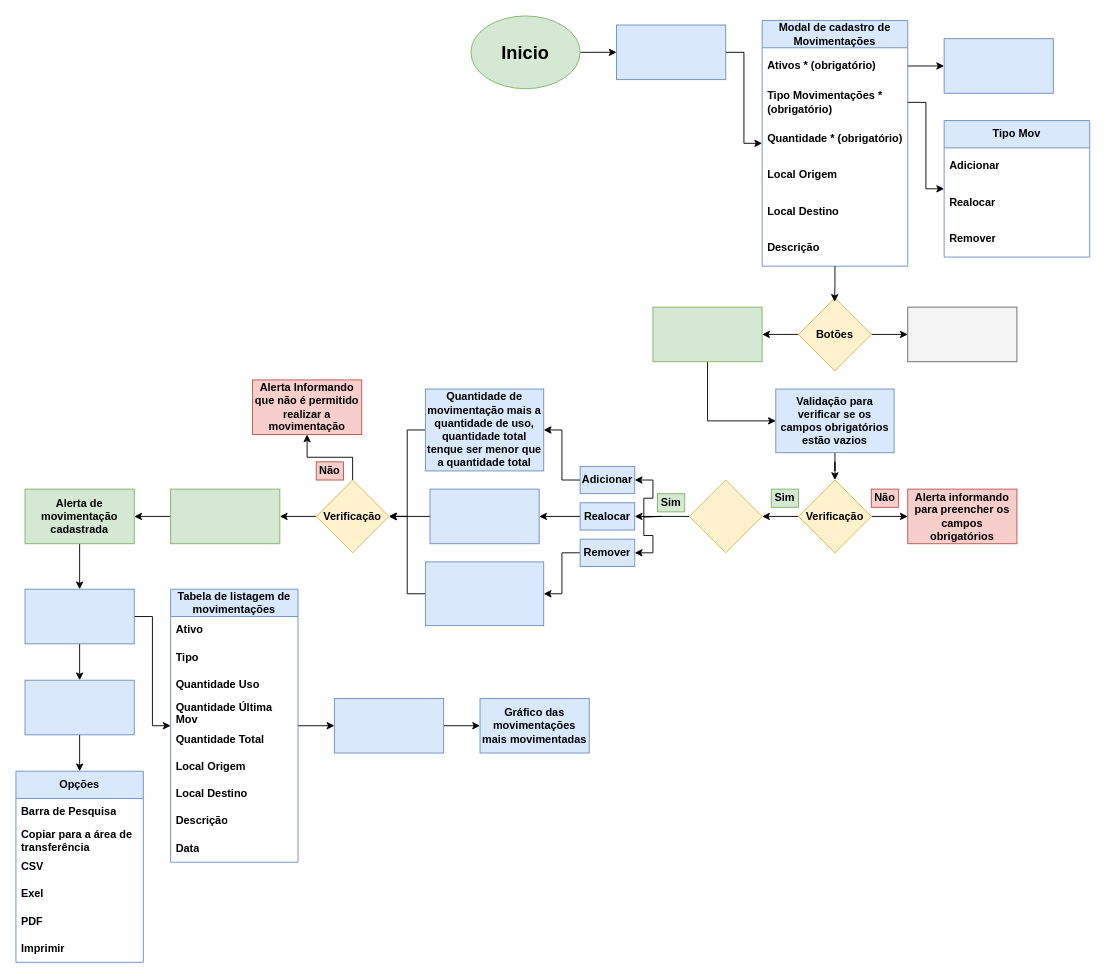
Some shapes in this 1106 by 978 pixel diagram are drawn without their labels. Each missing label, with the centre of its shape:
Botão para salvar as informações: pixel 707 334
Botão pra limpar o modal: pixel 962 334
Cadastrar Movimentação (abrir modal): pixel 671 52
Com base nas informações: pixel 389 725
Fazendo um Select e buscando todos os Ativos: pixel 998 65
Insert da informação no banco de dados: pixel 225 516
Quantidade de uso menos a quantidade de movimentação: pixel 484 516
Quantidade de uso menos a quantidade de movimentação, sendo maior que zero: pixel 484 593
Tela de listagem de movimentações cadastradas: pixel 79 616
Tipo de Mov: pixel 725 516
Usando a biblioteca dataTables para adicionar a tabela opções de:: pixel 79 707
